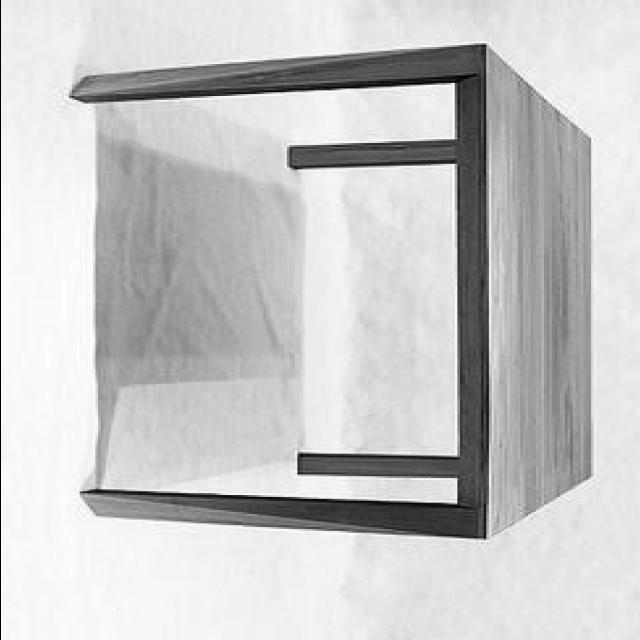table: (66, 44, 596, 542)
